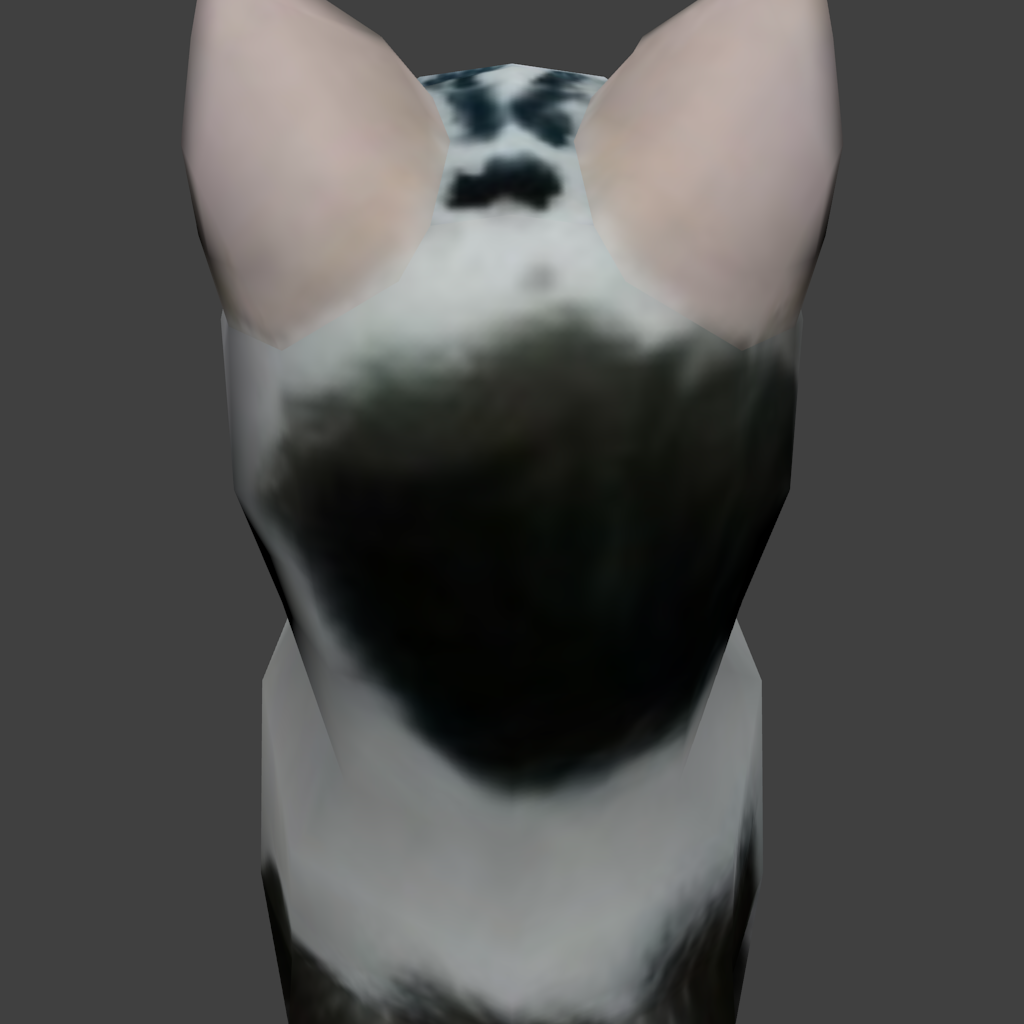Cat: (181, 0, 663, 1024)
